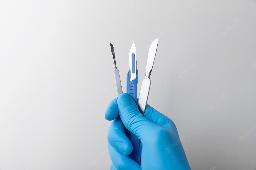scalpel: (138, 37, 158, 115), (126, 41, 138, 107)
